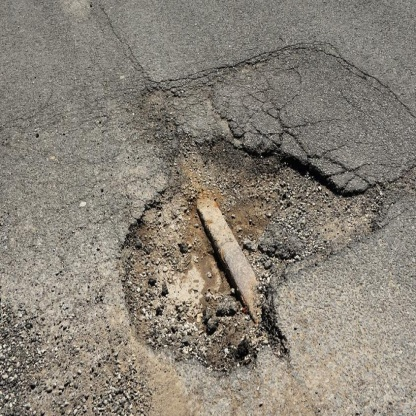pothole: (95, 111, 399, 380)
